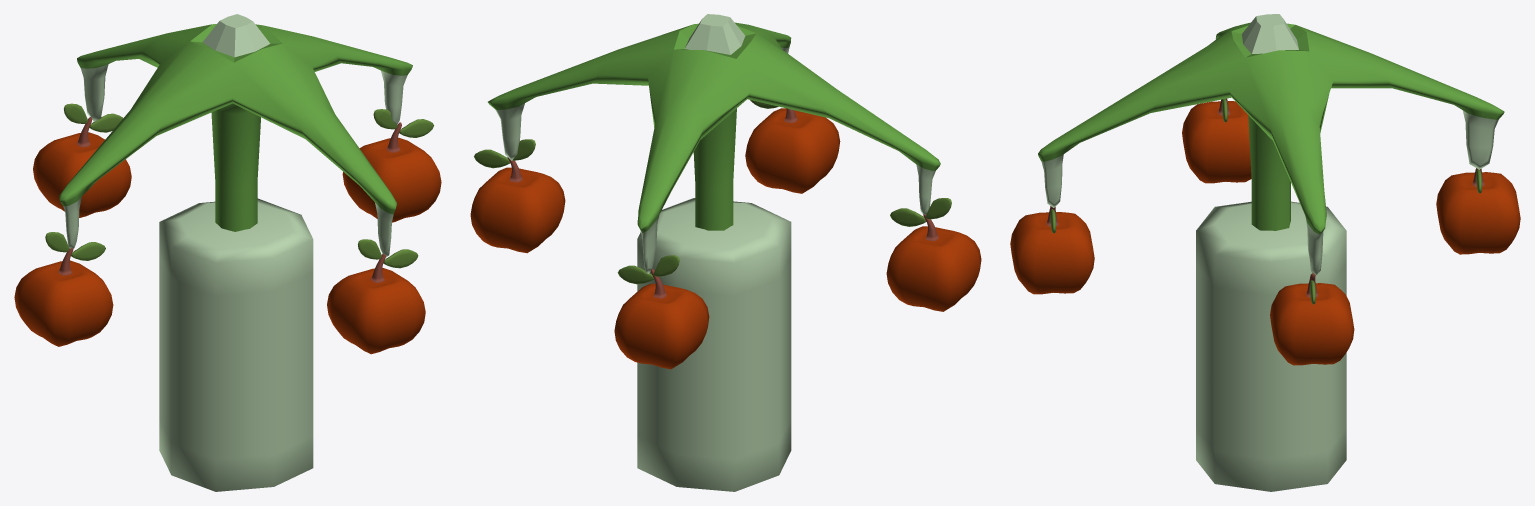
The model's file is Fruitstoy.fbx.
3 renders of one model, left to right at view 1: azimuth 30°, elevation 25°; view 2: azimuth 150°, elevation 25°; view 3: azimuth 270°, elevation 25°, orthographic.
Visible parts, largest first — view 1: pCube2, pCube1, pCube3 (×4), pCube4 (×3); view 2: pCube2, pCube1, pCube3 (×4); view 3: pCube2, pCube1, pCube3 (×4).
Part boxes in pixels (x1,y1,x2,y2): pCube2: (159,198,313,491); pCube1: (59,14,412,257); pCube3 (×4): (14,117,441,354); pCube4 (×3): (71,119,433,268); pCube2: (637,198,791,491); pCube1: (488,14,940,273); pCube3 (×4): (470,108,981,369); pCube2: (1196,201,1346,491); pCube1: (1038,14,1504,276); pCube3 (×4): (1010,98,1520,365).
Size of the model in its own units: 13.03 by 12.32 by 12.72.
